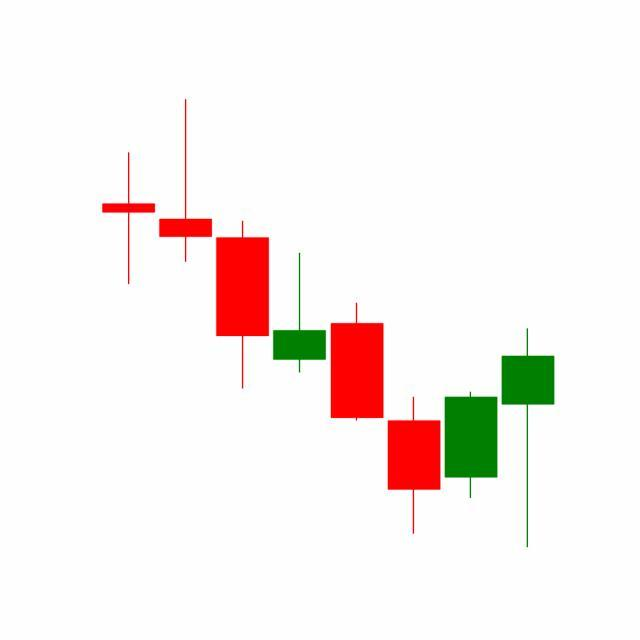Upside-Downside Gap Three Methods: (328, 301, 500, 538)
